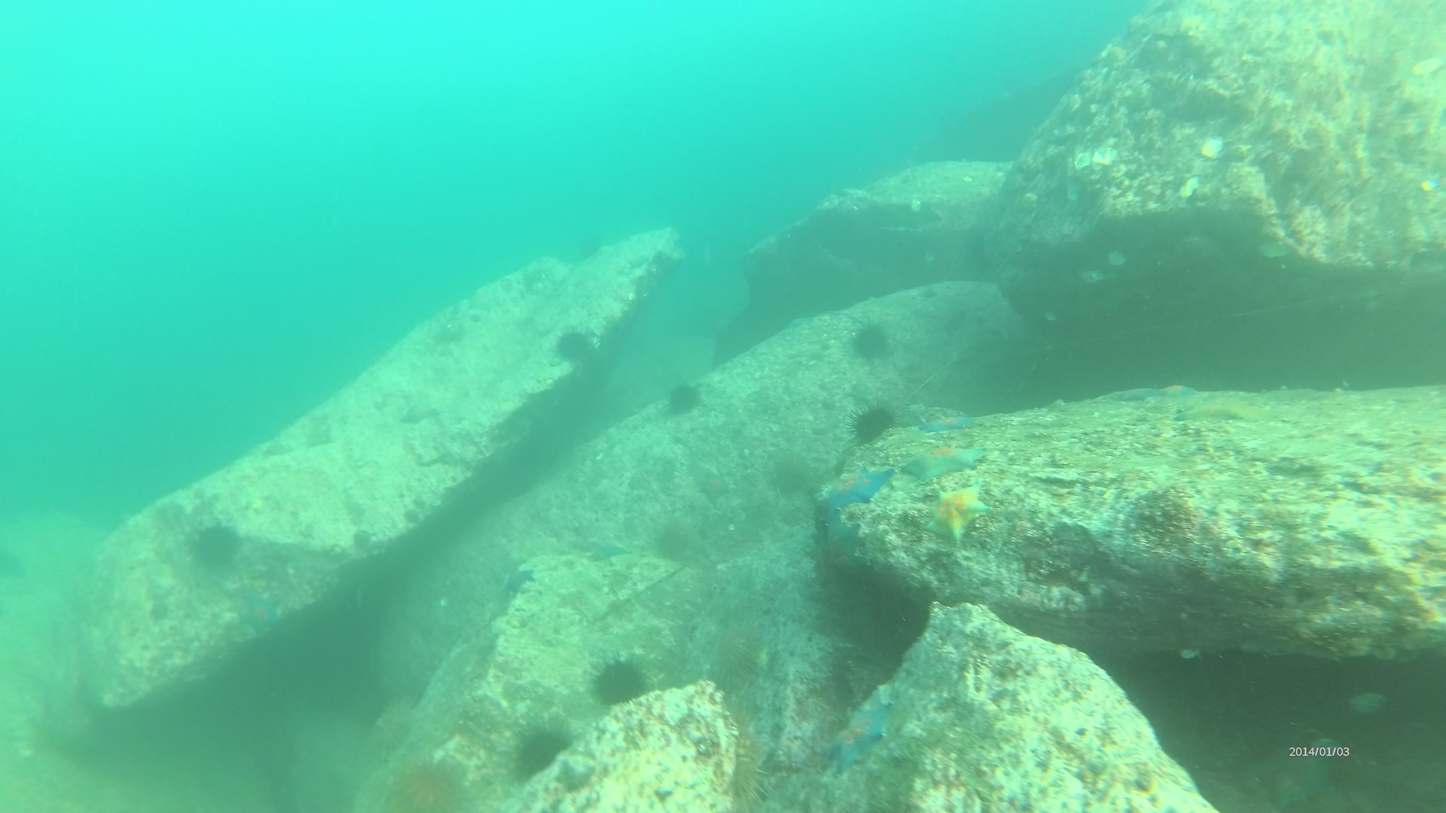holothurian: (835, 704, 898, 773), (821, 462, 892, 520), (927, 487, 993, 549), (910, 441, 988, 489), (1142, 379, 1203, 405), (923, 408, 978, 435)
starfish: (511, 724, 576, 778), (189, 525, 244, 576), (593, 659, 649, 708), (848, 406, 898, 445), (848, 327, 891, 365), (664, 383, 706, 420), (554, 332, 596, 368)
